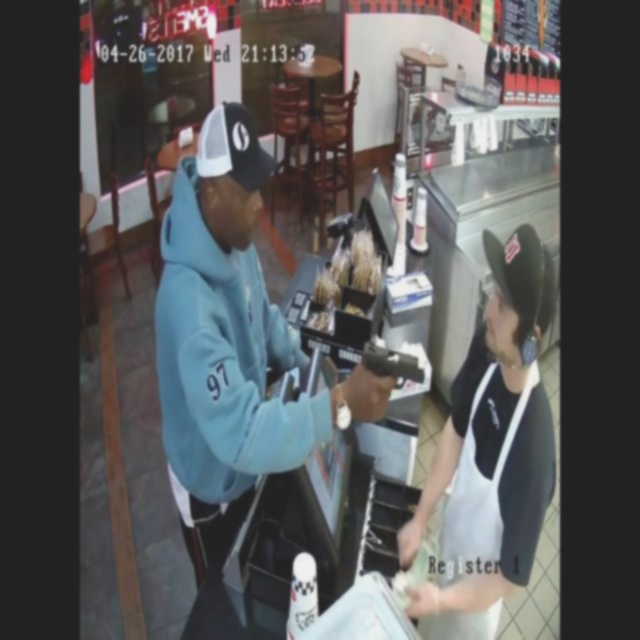gun: (343, 325, 432, 414)
